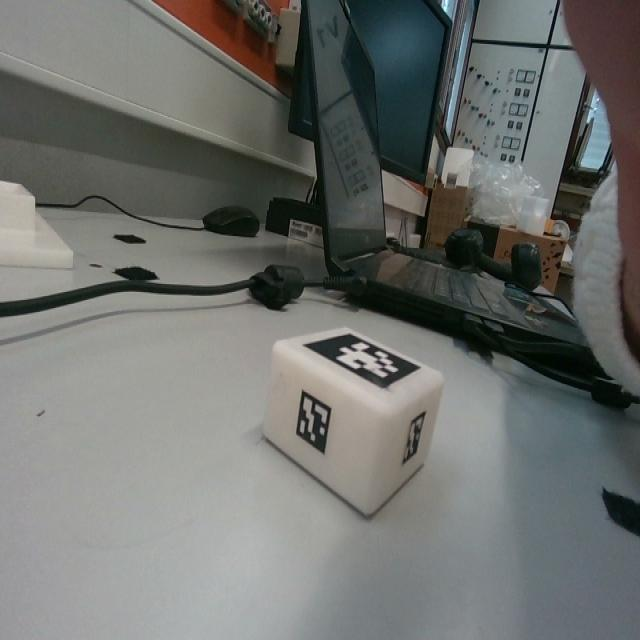Cube: (265, 325, 444, 520)
